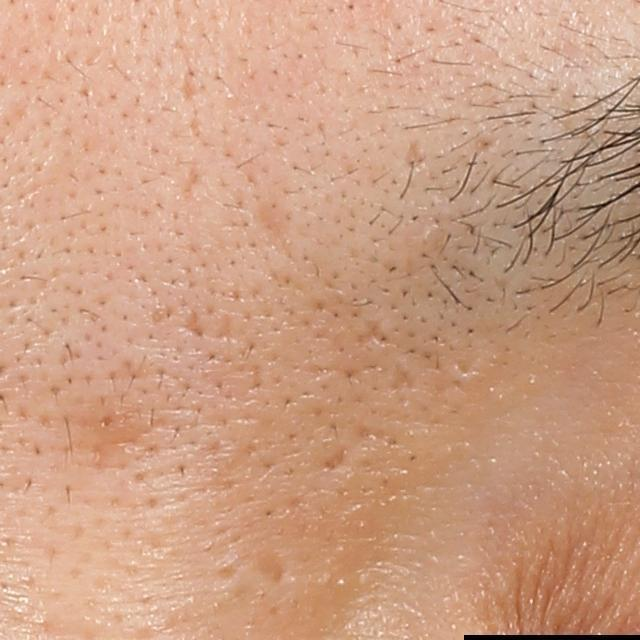atrophic_scar: (74, 404, 149, 476), (249, 187, 301, 264), (353, 315, 395, 350), (180, 166, 208, 202), (256, 556, 286, 588), (322, 446, 354, 474), (403, 139, 425, 172), (181, 313, 206, 341), (179, 69, 195, 103)
